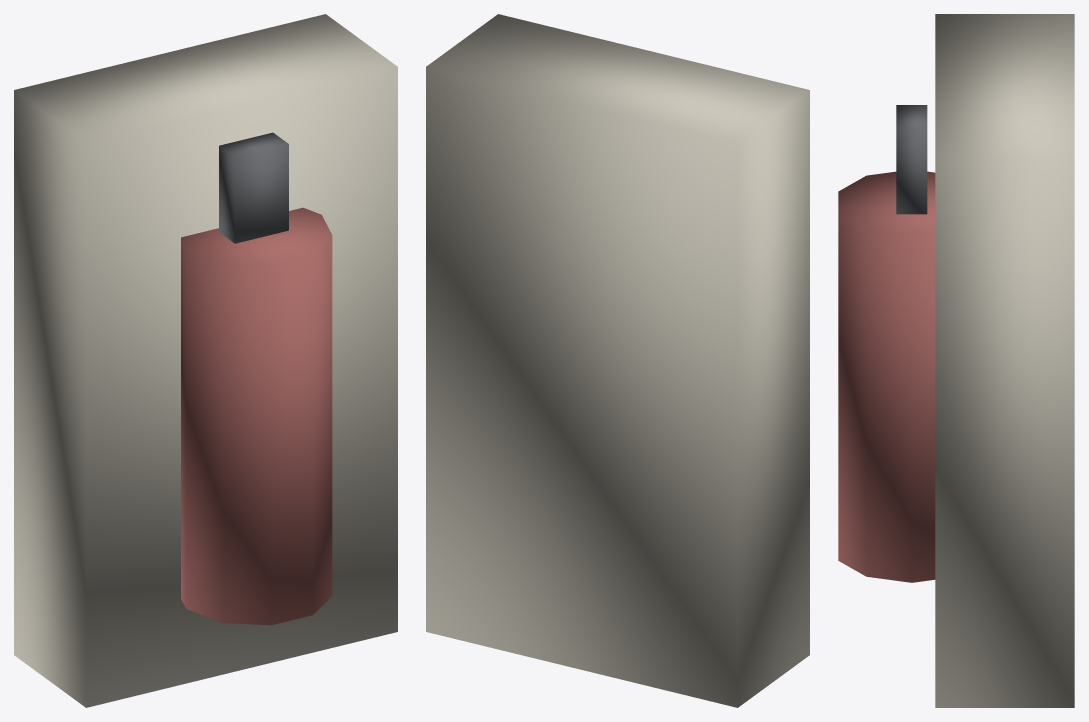
The model's file is extinguisher_cabinet__compact.glb.
3 renders of one model, left to right at view 1: azimuth 30°, elevation 25°; view 2: azimuth 150°, elevation 25°; view 3: azimuth 270°, elevation 25°, orthographic. The views are drawn at different scales.
Parts seen in each view (by area): view 1: world; view 2: world; view 3: world.
Part boxes in pixels (x1=…): world: x1=14, y1=14, x2=397, y2=707; world: x1=426, y1=14, x2=809, y2=707; world: x1=838, y1=14, x2=1074, y2=707.
Bounding box in the file's own units: 0.3864 × 0.6696 × 0.2624.
